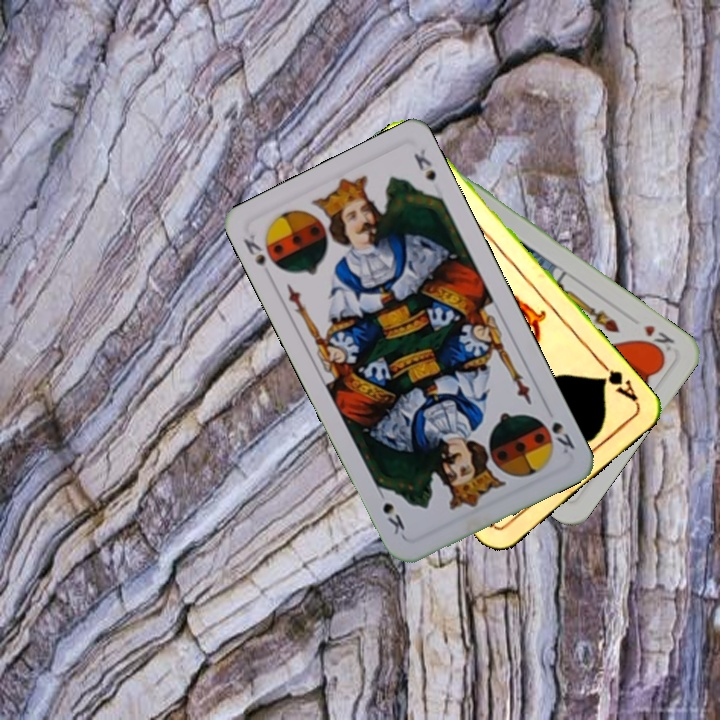GA: (594, 357, 641, 406)
HK: (637, 321, 678, 360)
SK: (536, 414, 578, 456), (239, 230, 269, 270)
